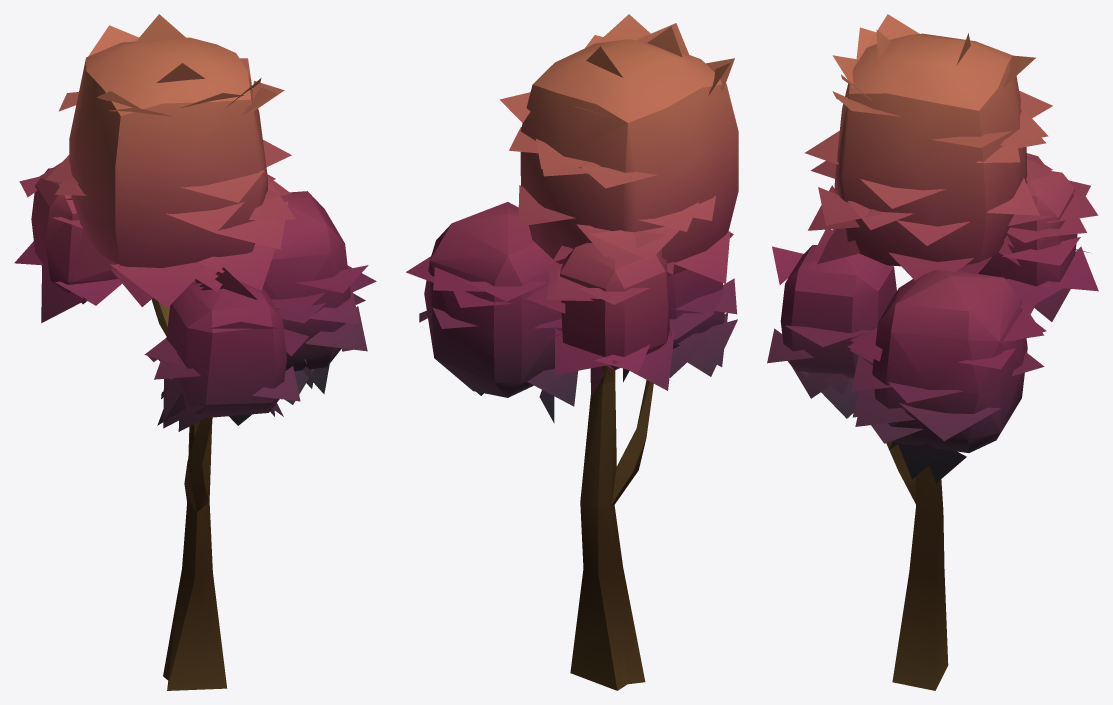
File: Tree_5J.fbx
3 views of the same model, side by side, from view 1: azimuth 30°, elevation 25°; view 2: azimuth 150°, elevation 25°; view 3: azimuth 270°, elevation 25° (orthographic). The views are drawn at different scales.
Parts seen in each view (by area): view 1: Tree_5J; view 2: Tree_5J; view 3: Tree_5J.
Part boxes in pixels (x1,y1,x2,y2): Tree_5J: (14, 14, 376, 690); Tree_5J: (406, 14, 738, 690); Tree_5J: (767, 14, 1098, 690).
Bounding box in the file's own units: 506 × 1043 × 493.
